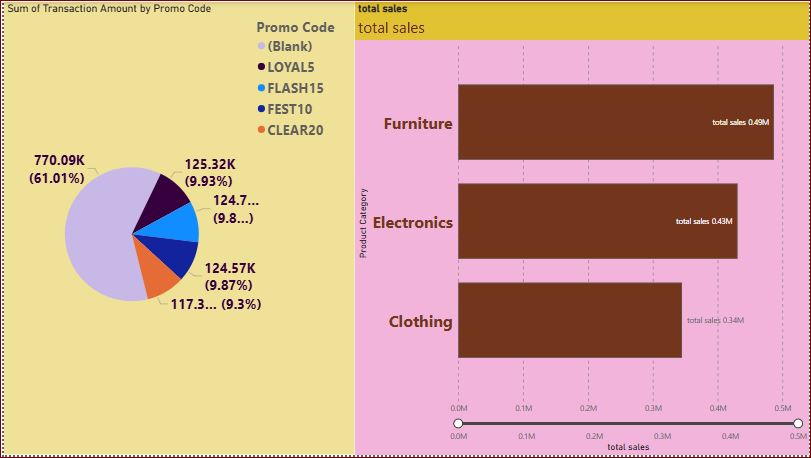

The page's visual inventory and layout, read from the dashboard file:
{"tool":"powerbi","page":{"name":"promo  analysis","canvas":[1280,720],"ordinal":2},"visuals":[{"type":"clusteredBarChart","title":"total sales","fields":{"Category":["customer transaction data.Product Category"],"Y":["Sum(customer transaction data.Transaction Amount)"]},"box":[557.1,0,723.8,719],"z":0},{"type":"pieChart","fields":{"Category":["promotions.Promo Code"],"Y":["Sum(customer transaction data.Transaction Amount)"]},"box":[0,0,557.1,719],"z":1}]}

Visuals, with their boxes in screenshot pixels (x1, y1, x2, y2), scaled from the page's 1280x720 canvas onto the 811x458 screenshot:
"total sales" clusteredBarChart: {"x1": 353, "y1": 0, "x2": 810, "y2": 457}
pieChart - promotions.Promo Code x Sum(customer transaction data.Transaction Amount): {"x1": 0, "y1": 0, "x2": 353, "y2": 457}
